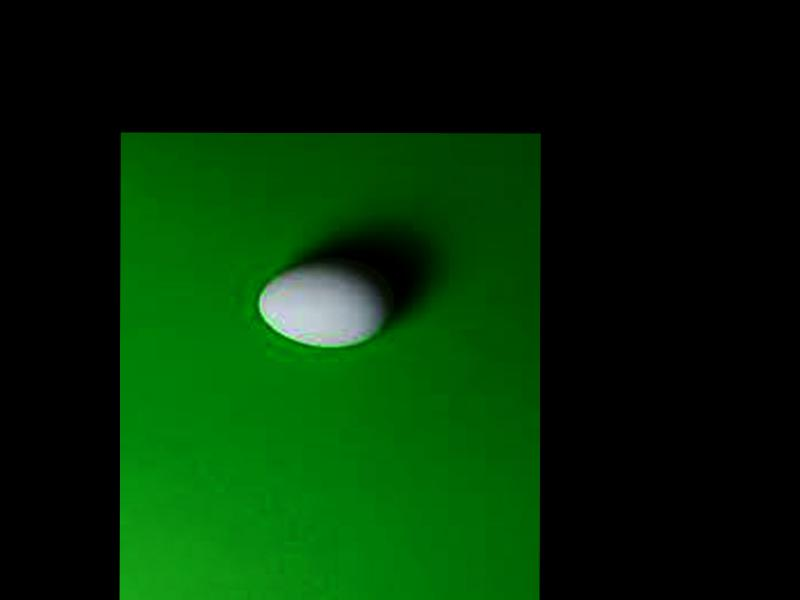Eggs: (257, 257, 394, 346)
